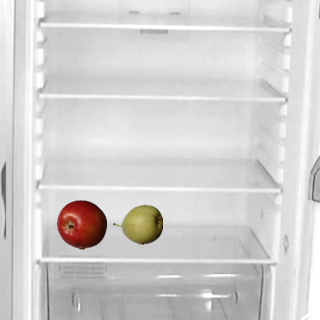Apple Braeburn: (56, 199, 106, 249)
Pear: (112, 199, 162, 249)
